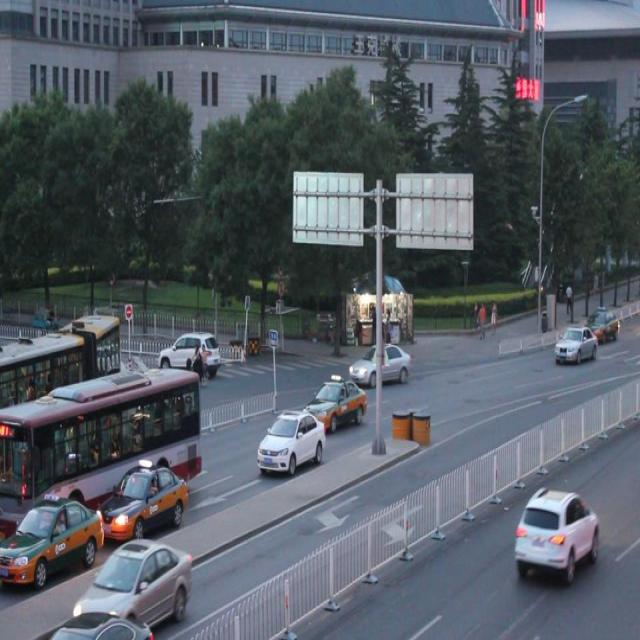car: (71, 532, 194, 633), (1, 491, 106, 588), (512, 488, 599, 580), (102, 459, 188, 540), (255, 409, 325, 475), (42, 609, 154, 640), (306, 371, 364, 430), (159, 332, 218, 384), (347, 339, 410, 386), (128, 367, 172, 413), (554, 324, 595, 361)
van: (1, 372, 200, 544), (0, 312, 120, 422)
